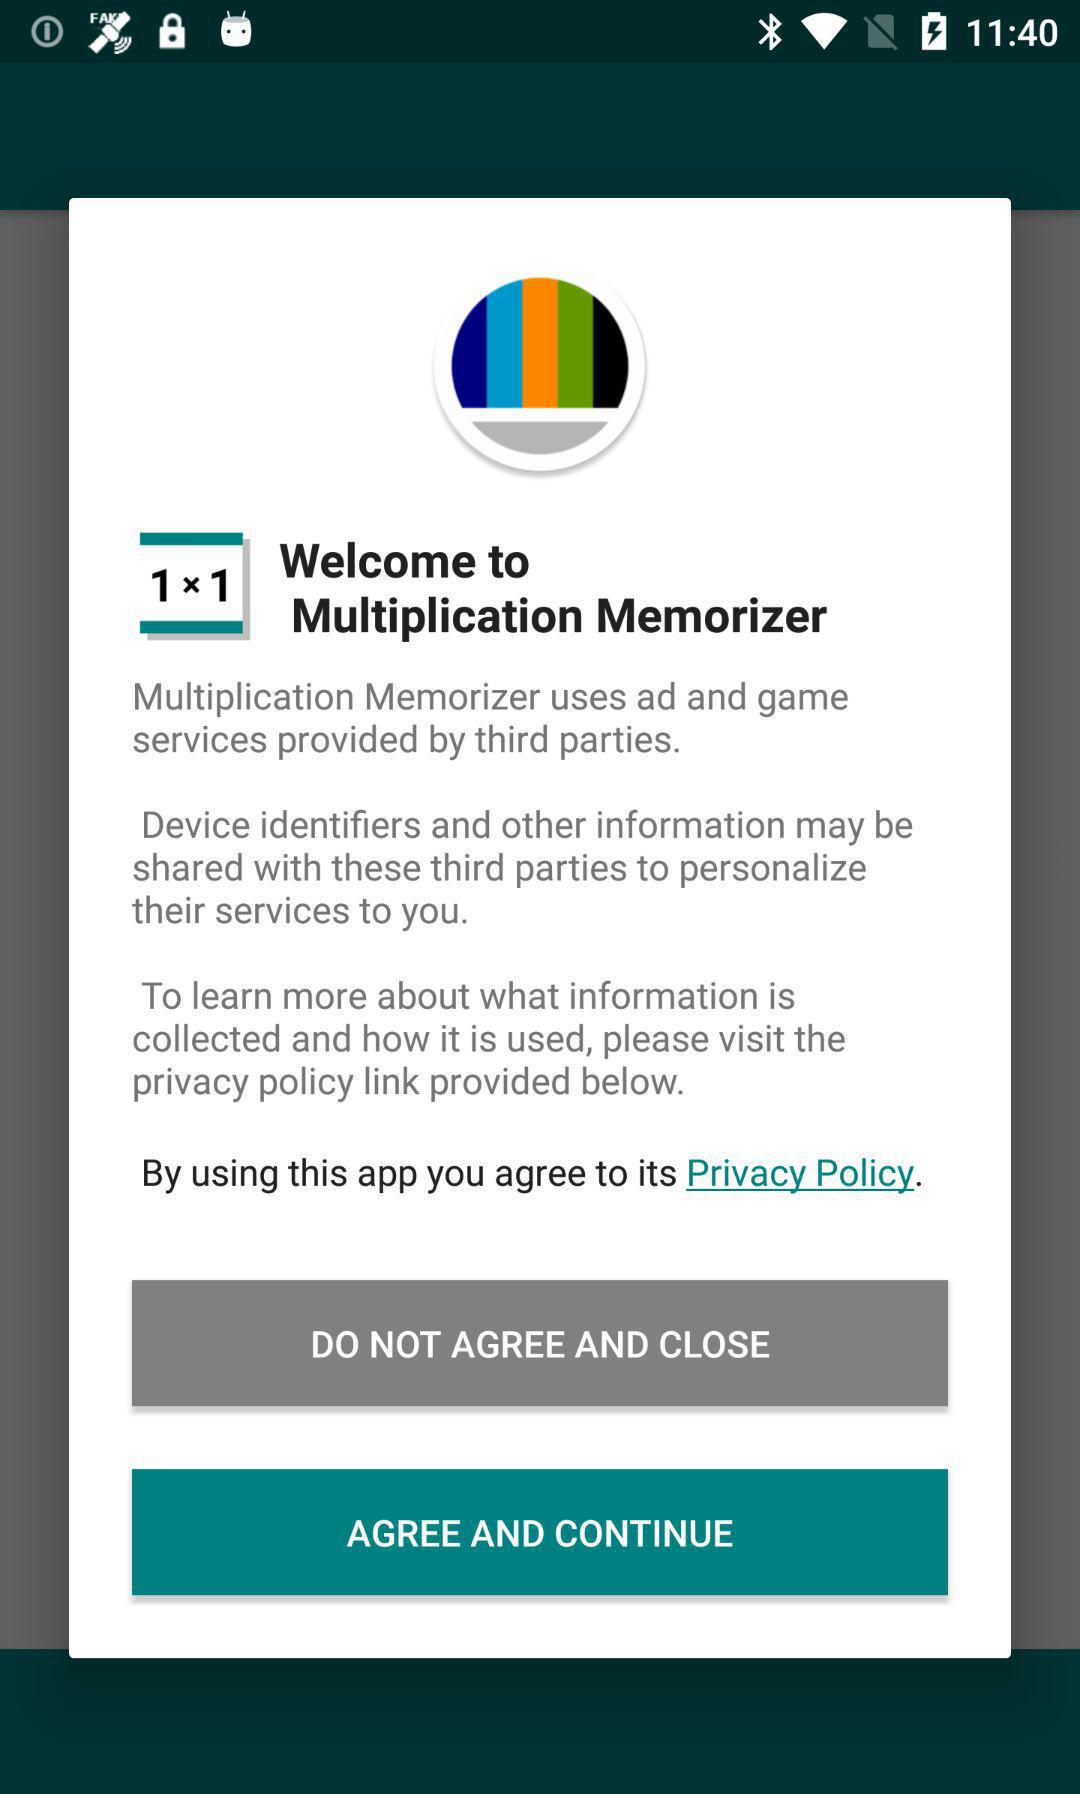Image: (434, 269, 650, 474), (140, 531, 252, 642)
Modal: (69, 199, 1012, 1659)
Text: (132, 809, 913, 933), (133, 980, 846, 1105), (133, 680, 849, 762), (279, 541, 828, 645), (143, 1157, 922, 1196)
TextButton: (132, 1279, 949, 1407), (132, 1469, 949, 1595)
UpperTaskBar: (1, 1, 1080, 64)
